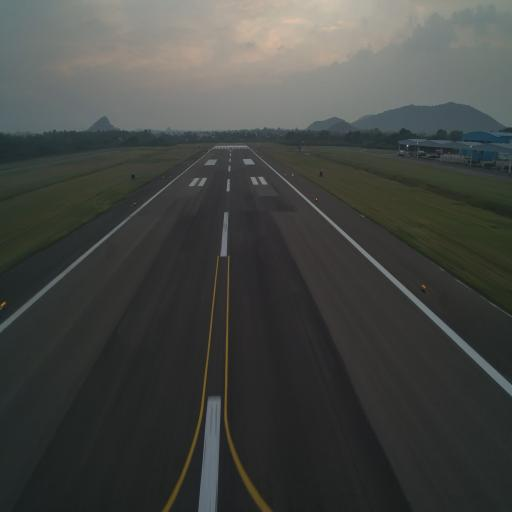on: (0, 293, 6, 313), (420, 280, 428, 294), (133, 199, 137, 207), (315, 194, 318, 203)
